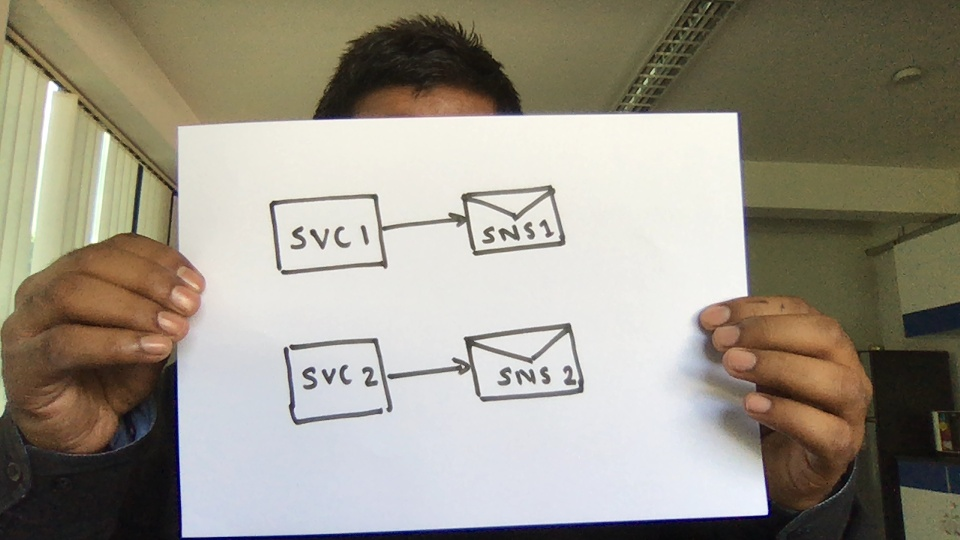ec2: (265, 191, 392, 279), (272, 336, 399, 424)
sns: (459, 321, 593, 402), (458, 181, 574, 255)
